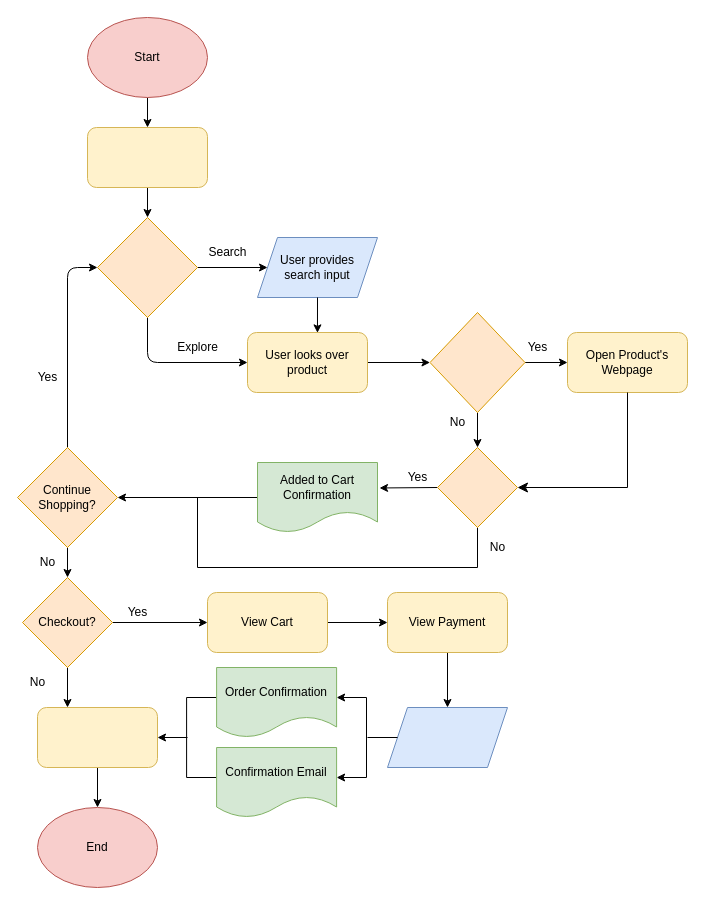
The diagram is 705 pixels wide and 905 high, and some of its shapes have lost their labels. The shapes that lost their labels are listed below. From the top down, each one's centre as x and y in pixels, then its label:
At [147,157]: "User enters website".
At [147,267]: "Search or Explore?".
At [477,362]: "View a specific product?".
At [477,487]: "Add to Cart?".
At [97,737]: "User leaves Website".
At [447,737]: "Input Payment Information".
